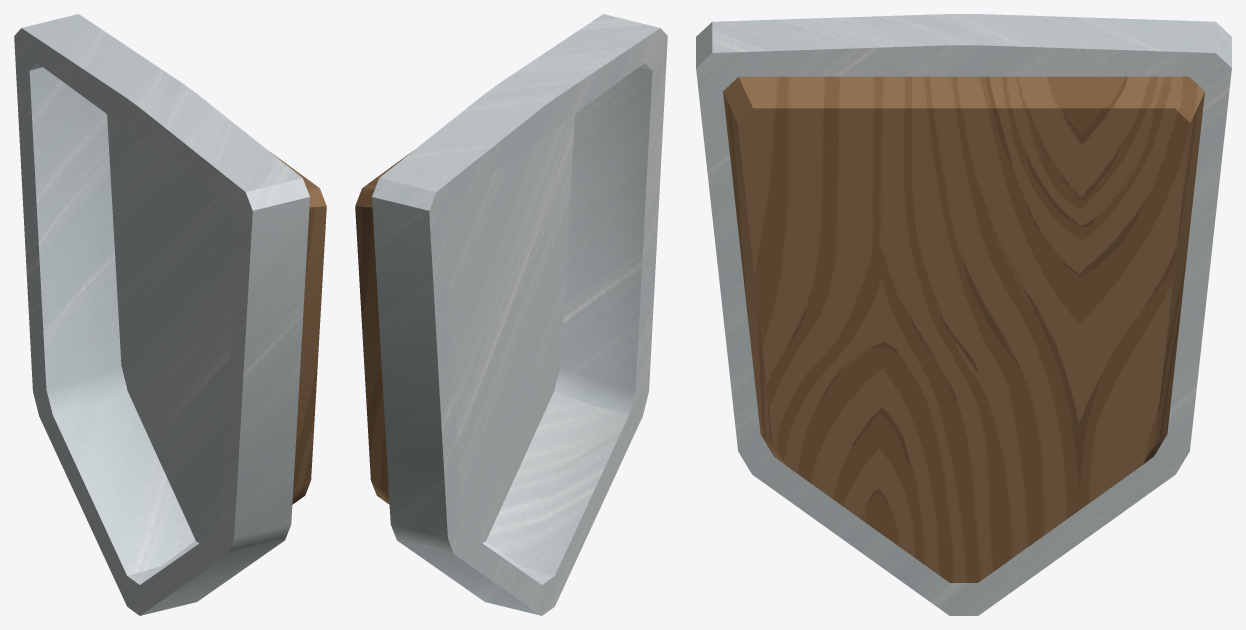
Rendered from ShieldC.fbx.
The picture shows the model from 3 angles, left to right: view 1: azimuth 30°, elevation 25°; view 2: azimuth 150°, elevation 25°; view 3: azimuth 270°, elevation 25°; orthographic projection. The views are drawn at different scales.
Parts seen in each view (by area): view 1: Shield C; view 2: Shield C; view 3: Shield C.
Part boxes in pixels (x1=…): Shield C: x1=14, y1=14, x2=326, y2=615; Shield C: x1=355, y1=14, x2=667, y2=615; Shield C: x1=696, y1=14, x2=1231, y2=615.
Bounding box in the file's own units: 0.1652 × 0.8673 × 0.7383.
